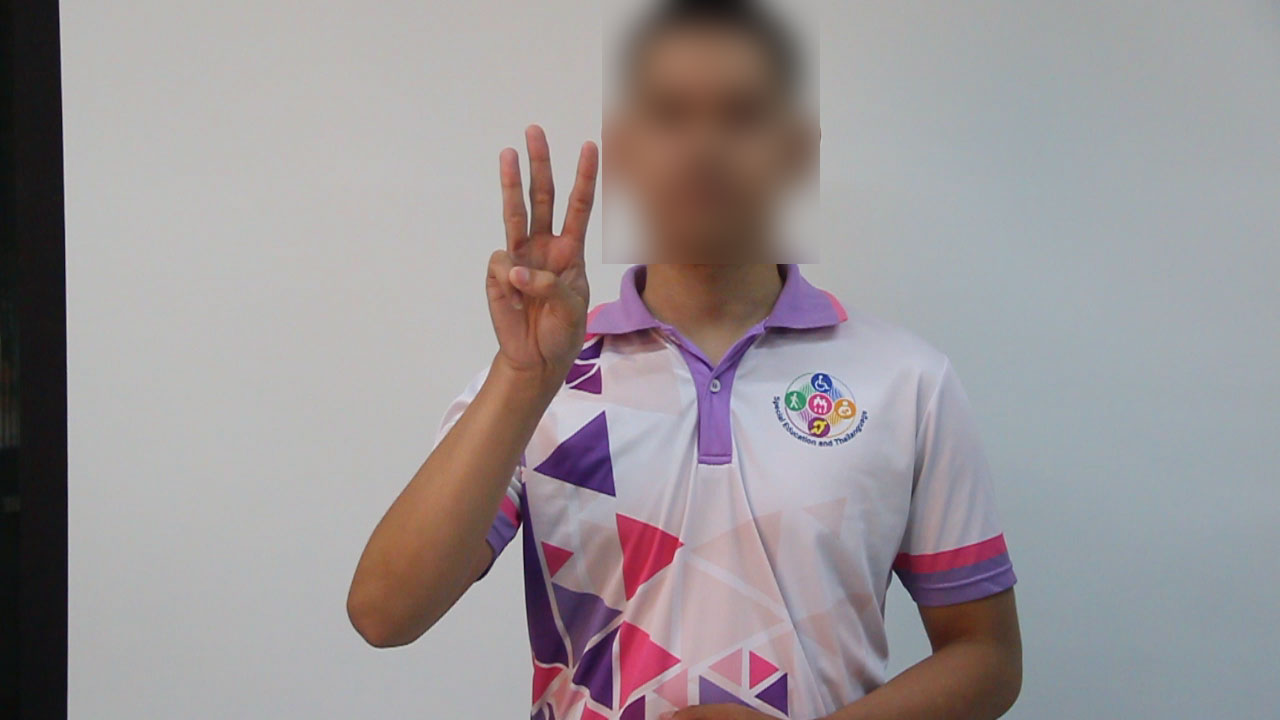wor: (475, 117, 609, 391)
